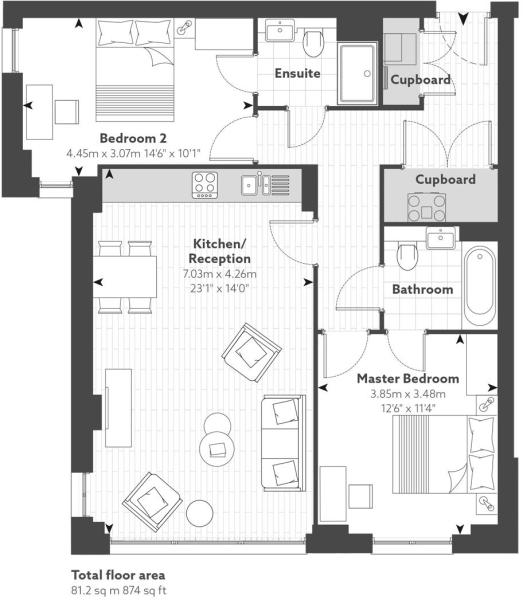GrossArea: (69, 565, 169, 600)
